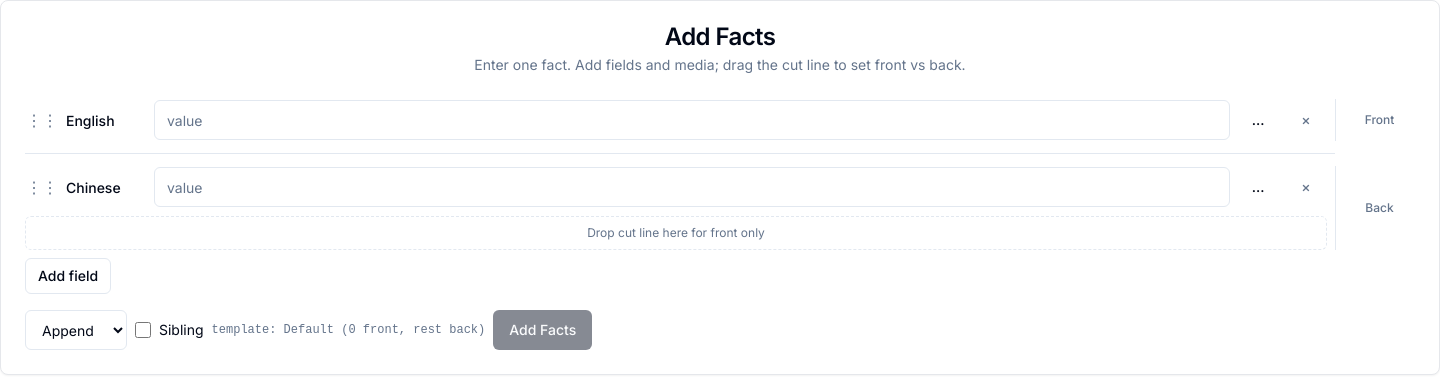
AddFactsForm › each row has an options menu with Add media
Click the 1st button "…".
click(1258, 120)  # box x1=1238 y1=102 x2=1278 y2=138
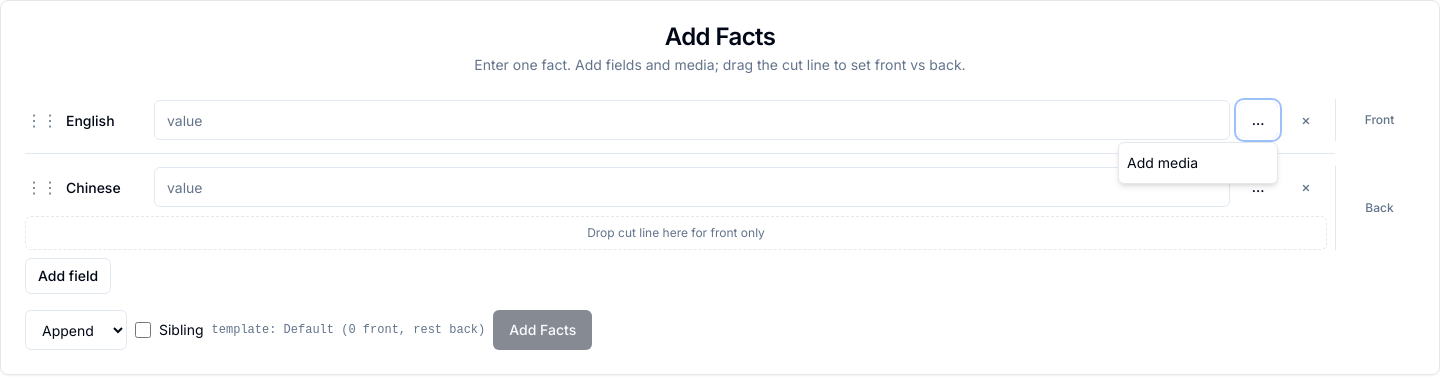
Check: the menu item "Add media" is shown, box x1=1119 y1=147 x2=1277 y2=179
